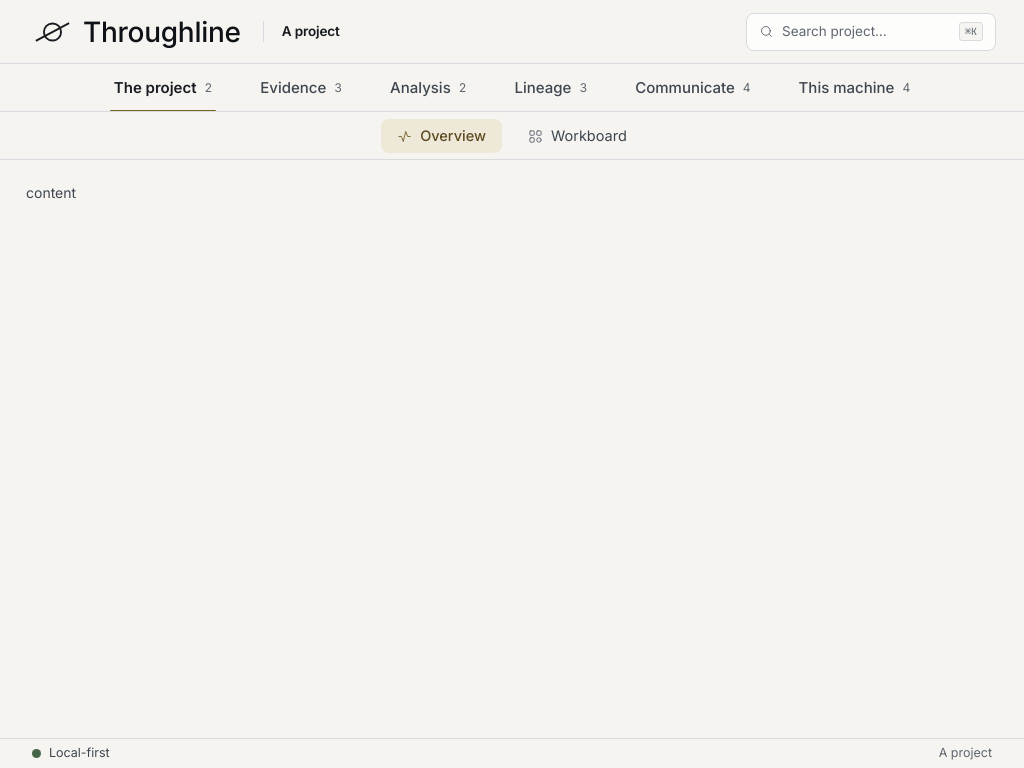
Test: the hand-tracking pages are reachable from the product › files them under the machine rather than among the research steps
The width and height of the screenshot is (1024, 768).
Click the button "This machine 4" at (854, 88), box [785,64,924,112]
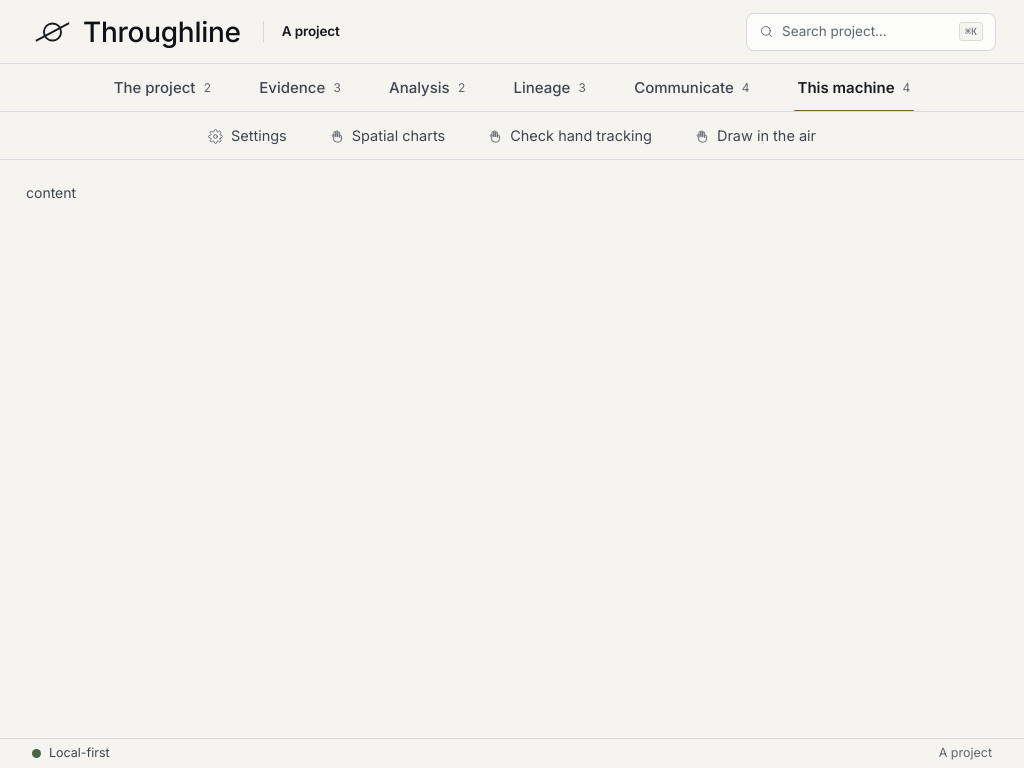
Now the navigation bar "Settings Spatial charts Check hand tracking Draw in the air" is shown, box [0,112,1023,160]
